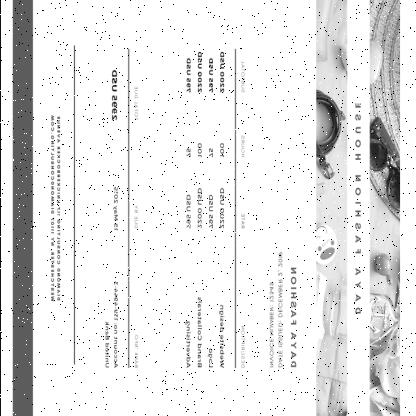Paragraph: (263, 247, 301, 372), (100, 274, 140, 372), (350, 96, 366, 318), (46, 111, 64, 307), (106, 61, 143, 127), (107, 181, 141, 238)
Table: (177, 44, 249, 373)
